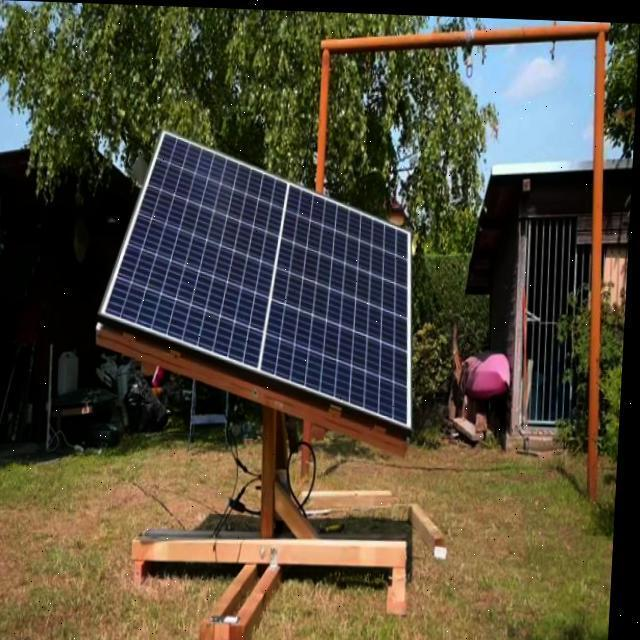Normal Solar Panel: (99, 129, 428, 426)
